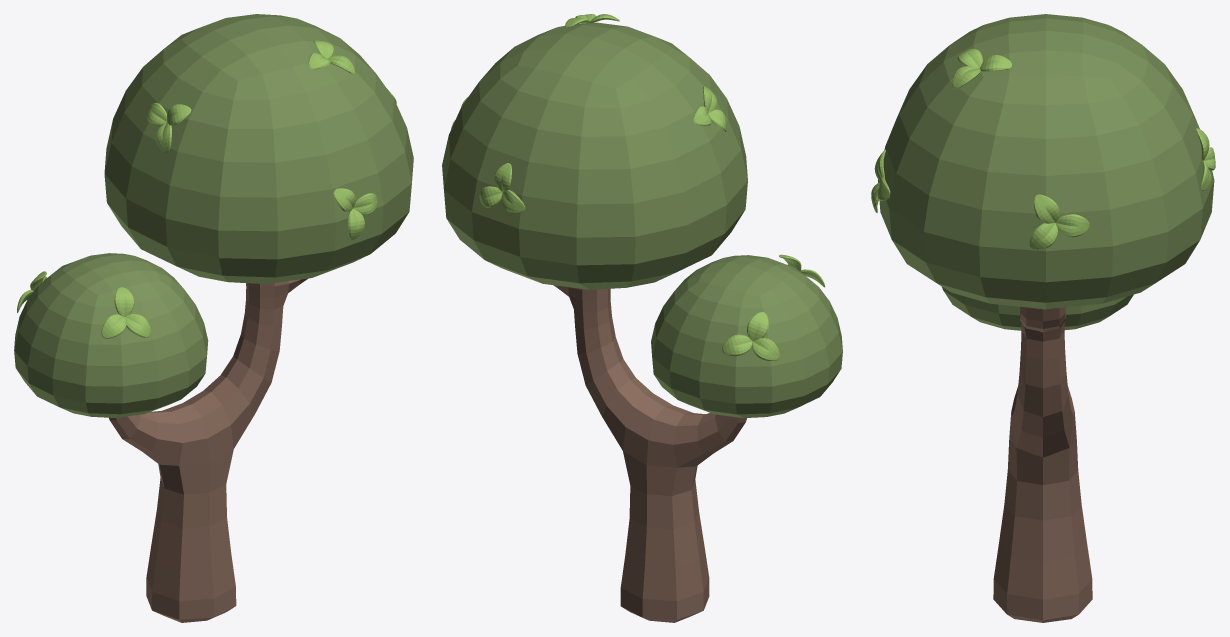
The model's file is tree_two_round.fbx.
3 views of the same model, side by side, from view 1: azimuth 30°, elevation 25°; view 2: azimuth 150°, elevation 25°; view 3: azimuth 270°, elevation 25° (orthographic). The views are drawn at different scales.
Parts seen in each view (by area): view 1: Cube.140, Cube.124, Cube.141, Cube.144, Cube.148, Cube.147, Cube.145; view 2: Cube.140, Cube.124, Cube.141, Cube.143, Cube.142, Cube.147; view 3: Cube.140, Cube.124, Cube.141, Cube.146, Cube.145, Cube.142, Cube.148.
Part boxes in pixels (x1,y1,x2,y2): Cube.140: [104, 14, 413, 283]; Cube.124: [109, 278, 308, 622]; Cube.141: [14, 253, 208, 417]; Cube.144: [101, 287, 150, 338]; Cube.148: [333, 188, 377, 239]; Cube.147: [146, 102, 191, 152]; Cube.145: [308, 40, 354, 73]; Cube.140: [442, 22, 747, 289]; Cube.124: [553, 285, 746, 622]; Cube.141: [651, 255, 842, 418]; Cube.143: [722, 312, 779, 360]; Cube.142: [479, 163, 525, 212]; Cube.147: [693, 86, 726, 131]; Cube.140: [878, 14, 1214, 309]; Cube.124: [993, 306, 1092, 622]; Cube.141: [942, 287, 1133, 330]; Cube.146: [1029, 194, 1089, 249]; Cube.145: [952, 48, 1011, 88]; Cube.142: [1196, 128, 1215, 190]; Cube.148: [871, 149, 890, 212].
Size of the model in its own units: 4.37 by 3.2 by 6.33.
